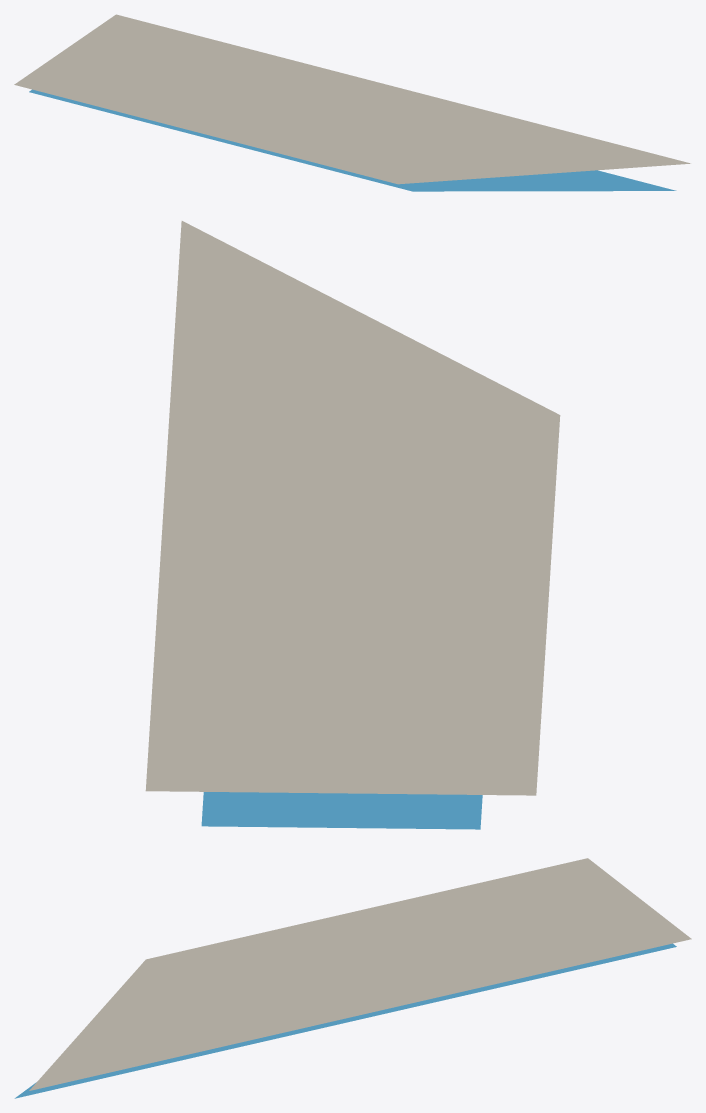
The picture shows the model from 3 angles, top to bottom: view 1: azimuth 30°, elevation 25°; view 2: azimuth 150°, elevation 25°; view 3: azimuth 270°, elevation 25°; orthographic projection. The views are drawn at different scales.
Visible parts, largest first — view 1: estructura_terreno, estructura_agua; view 2: estructura_terreno, estructura_agua; view 3: estructura_terreno, estructura_agua.
Part boxes in pixels (x1,y1,x2,y2): estructura_terreno: (14, 14, 690, 184); estructura_agua: (29, 89, 676, 191); estructura_terreno: (145, 221, 560, 795); estructura_agua: (201, 792, 482, 829); estructura_terreno: (29, 858, 691, 1090); estructura_agua: (14, 943, 676, 1098).
Size of the model in its own units: 10.62 by 0.41 by 13.05.
